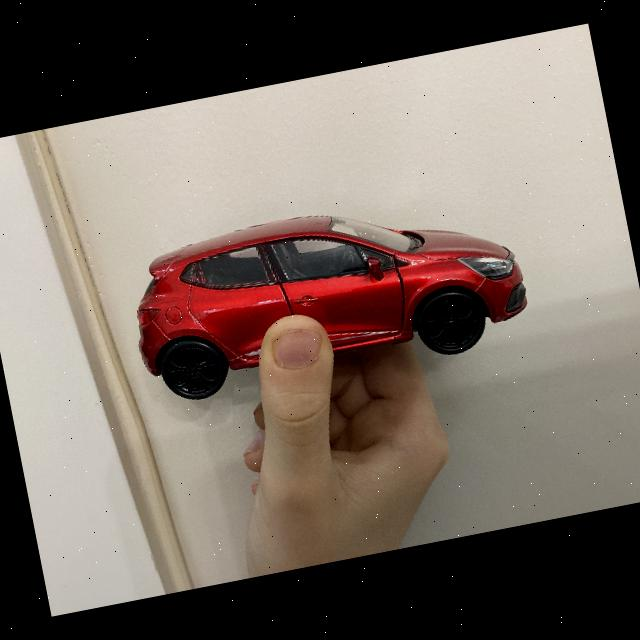Dogru_Jant: (423, 294, 483, 352), (164, 343, 221, 398)
